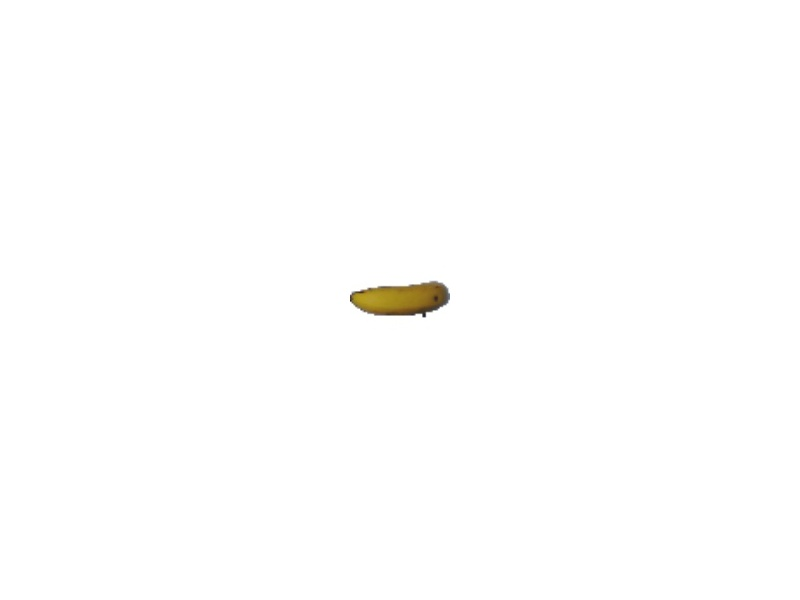banana: (346, 279, 451, 317)
